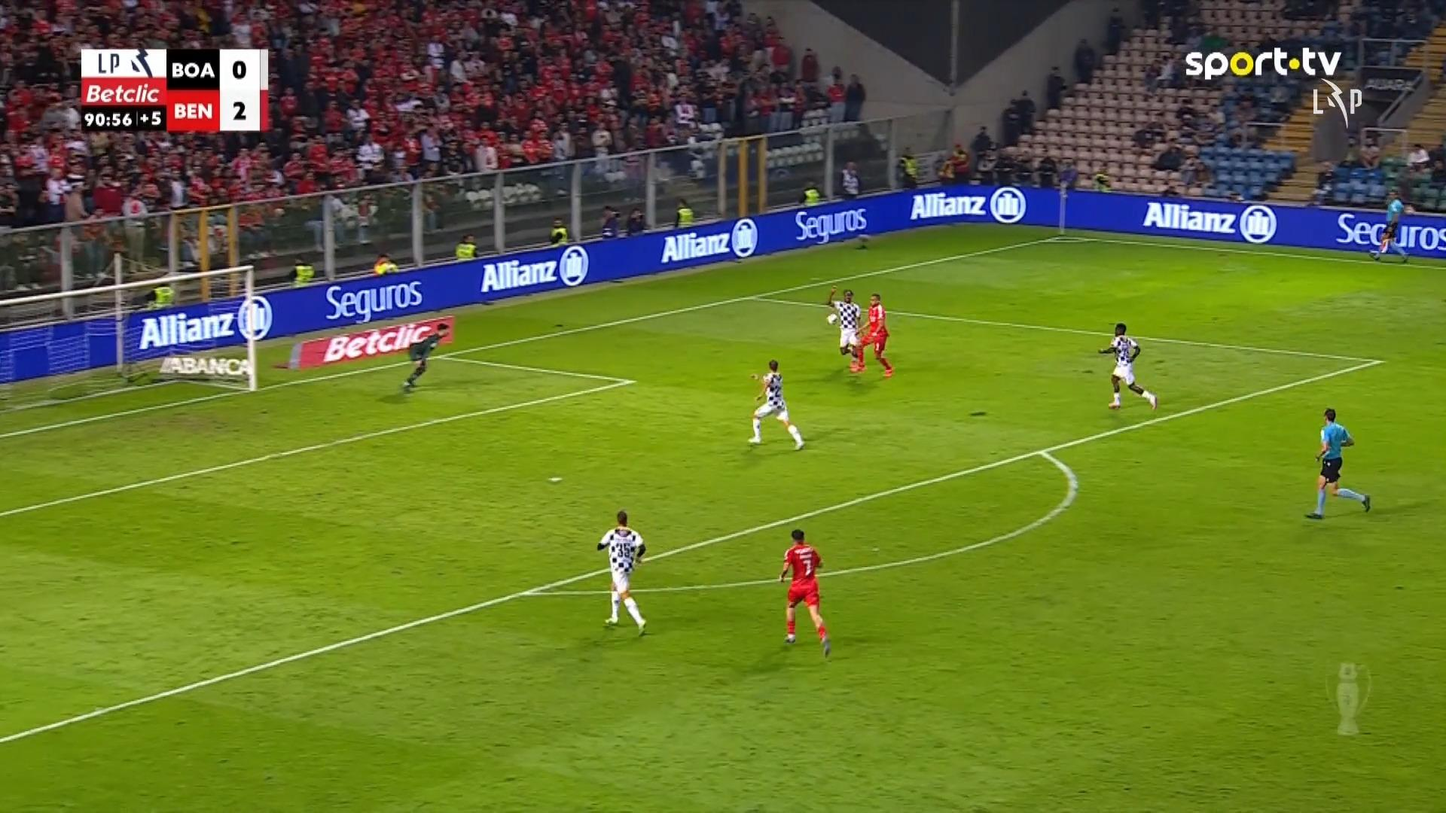ball: (825, 312, 837, 324)
goalkeeper: (401, 321, 450, 391)
player: (777, 528, 831, 659), (596, 509, 648, 636), (746, 358, 804, 451), (1097, 322, 1158, 410), (825, 286, 865, 373), (855, 292, 895, 378)
referee: (1304, 406, 1371, 519), (1368, 187, 1410, 263)
